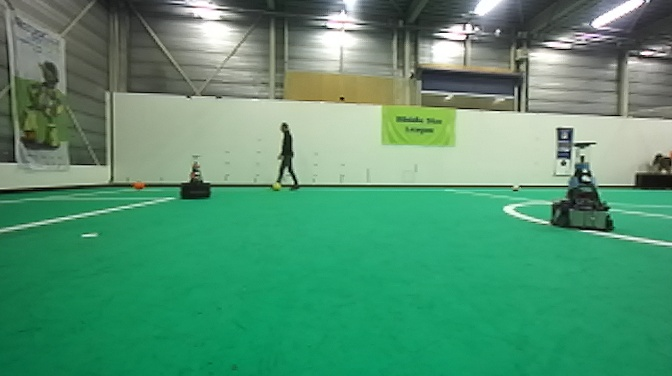ball: (128, 177, 145, 193), (270, 179, 284, 194), (510, 182, 522, 194)
human: (271, 120, 301, 191)
robot: (549, 139, 616, 232), (177, 153, 215, 201)
